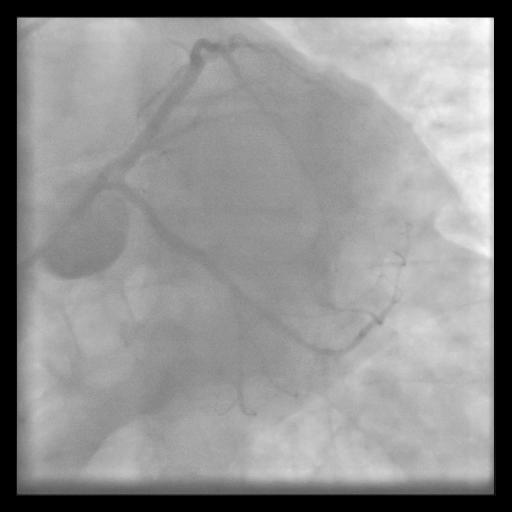Stenosis: (241, 290, 286, 326)
